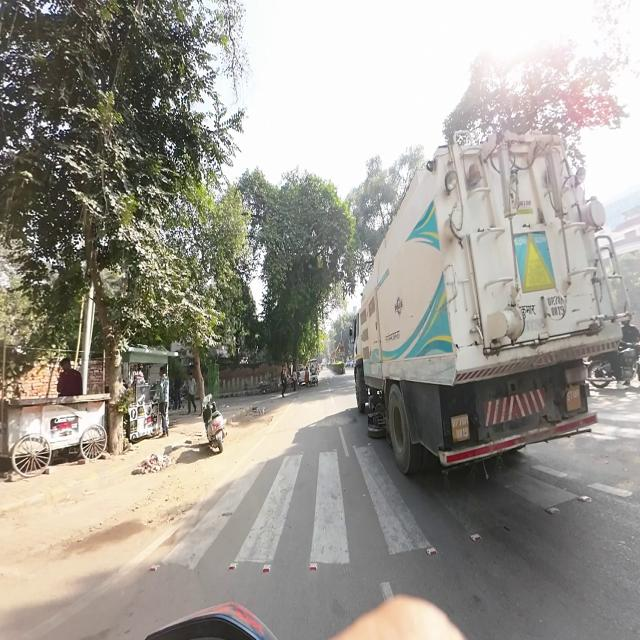Garbage: (139, 452, 172, 474)
